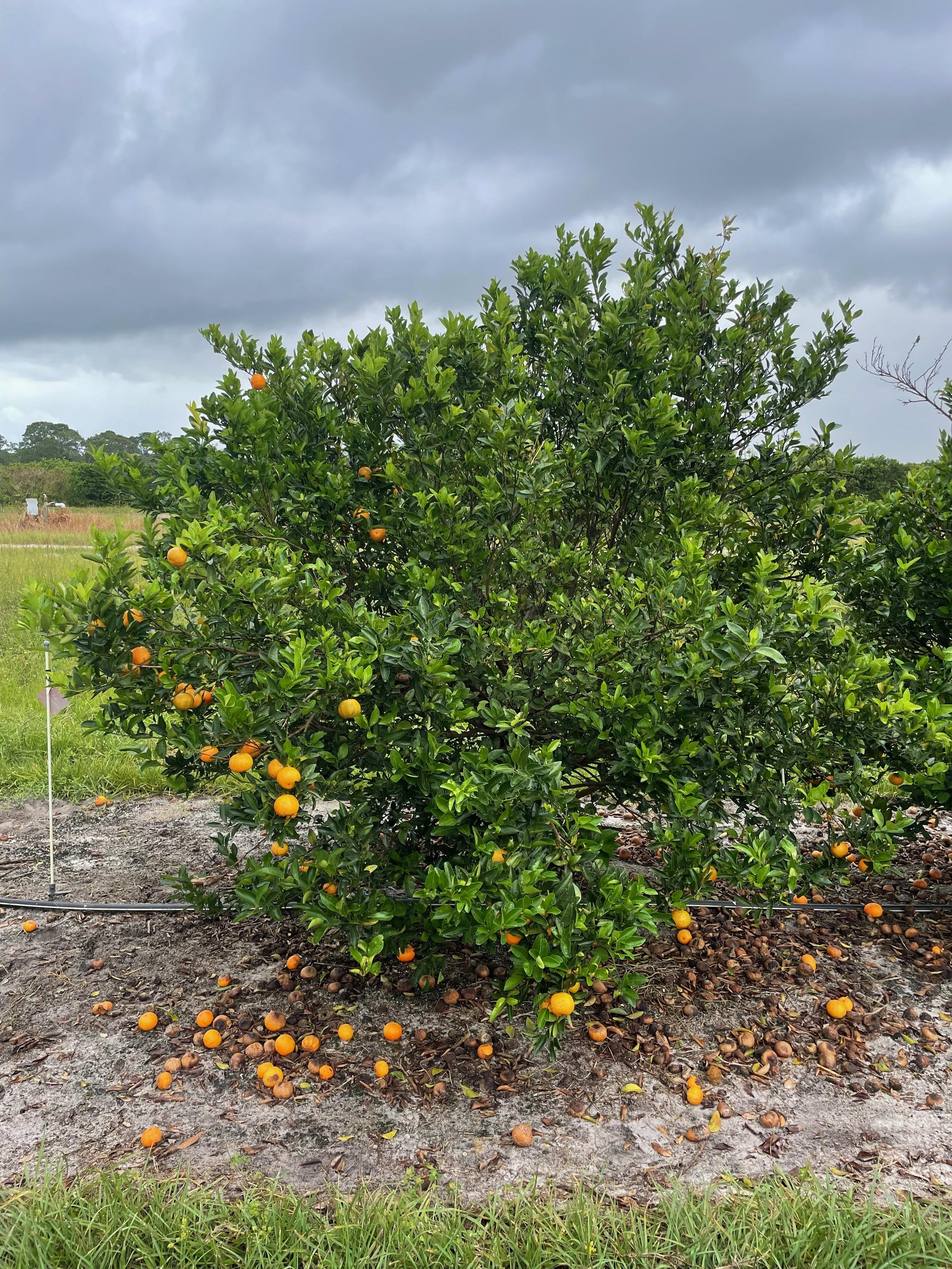fruit_on_ground: (548, 989, 577, 1017), (271, 792, 300, 818), (336, 695, 364, 720), (227, 750, 254, 775), (276, 764, 303, 788), (265, 755, 288, 779), (121, 607, 145, 630), (118, 660, 143, 682), (197, 742, 222, 764), (697, 862, 720, 885), (166, 545, 189, 568), (129, 645, 153, 667), (155, 666, 180, 687), (85, 616, 108, 638), (670, 908, 693, 929), (500, 926, 524, 946), (172, 692, 194, 713), (240, 737, 263, 757), (488, 846, 511, 866), (181, 689, 203, 709), (350, 506, 371, 526), (829, 840, 850, 860), (536, 993, 555, 1015), (368, 523, 388, 543), (269, 838, 290, 857), (563, 975, 582, 995), (319, 879, 339, 897), (248, 372, 267, 390), (174, 680, 194, 697), (857, 857, 875, 874), (297, 859, 315, 876), (197, 688, 214, 706), (888, 771, 906, 786), (357, 465, 373, 481), (824, 774, 839, 789), (302, 778, 318, 792), (392, 485, 406, 499), (852, 804, 865, 818)
fruit_on_tree: (509, 1121, 535, 1148), (826, 995, 855, 1019), (256, 1061, 283, 1084), (759, 1108, 787, 1130), (273, 1033, 296, 1056), (262, 1009, 286, 1031), (140, 1125, 164, 1147), (137, 1009, 160, 1031), (816, 1040, 838, 1062), (395, 942, 418, 963), (381, 1022, 404, 1042), (735, 1028, 757, 1048), (193, 1007, 215, 1027), (91, 998, 115, 1016), (587, 1021, 607, 1042), (273, 1079, 294, 1099), (300, 1032, 321, 1052), (415, 972, 437, 991), (201, 1030, 223, 1049), (335, 1022, 355, 1042), (475, 1040, 495, 1060), (920, 1021, 941, 1040), (685, 1085, 704, 1105), (440, 986, 460, 1005), (155, 1070, 175, 1089), (212, 1012, 232, 1030), (864, 900, 884, 918), (799, 952, 818, 970), (775, 1040, 794, 1058), (317, 1063, 336, 1081), (244, 1040, 264, 1057), (675, 928, 695, 945), (229, 1049, 247, 1067), (285, 953, 303, 971), (373, 1060, 391, 1078), (718, 1038, 737, 1055), (180, 1051, 199, 1068), (239, 1029, 259, 1045), (914, 1052, 931, 1070), (910, 877, 930, 892), (395, 979, 413, 995), (299, 963, 317, 979), (304, 1056, 321, 1072), (761, 1047, 777, 1064), (474, 963, 491, 979), (215, 972, 232, 988), (286, 990, 304, 1005), (163, 1056, 181, 1071), (825, 943, 843, 958), (927, 866, 944, 881), (920, 850, 937, 865), (21, 918, 38, 933), (93, 792, 108, 807), (617, 846, 632, 861), (329, 966, 345, 980), (685, 1073, 701, 1087), (682, 1002, 698, 1016), (324, 979, 341, 992), (878, 923, 894, 936), (630, 835, 644, 849), (924, 814, 938, 828), (905, 925, 919, 939), (811, 890, 826, 903), (793, 891, 808, 904), (892, 922, 905, 935), (906, 804, 920, 816), (845, 851, 857, 864), (811, 848, 823, 861), (0, 832, 10, 842)
